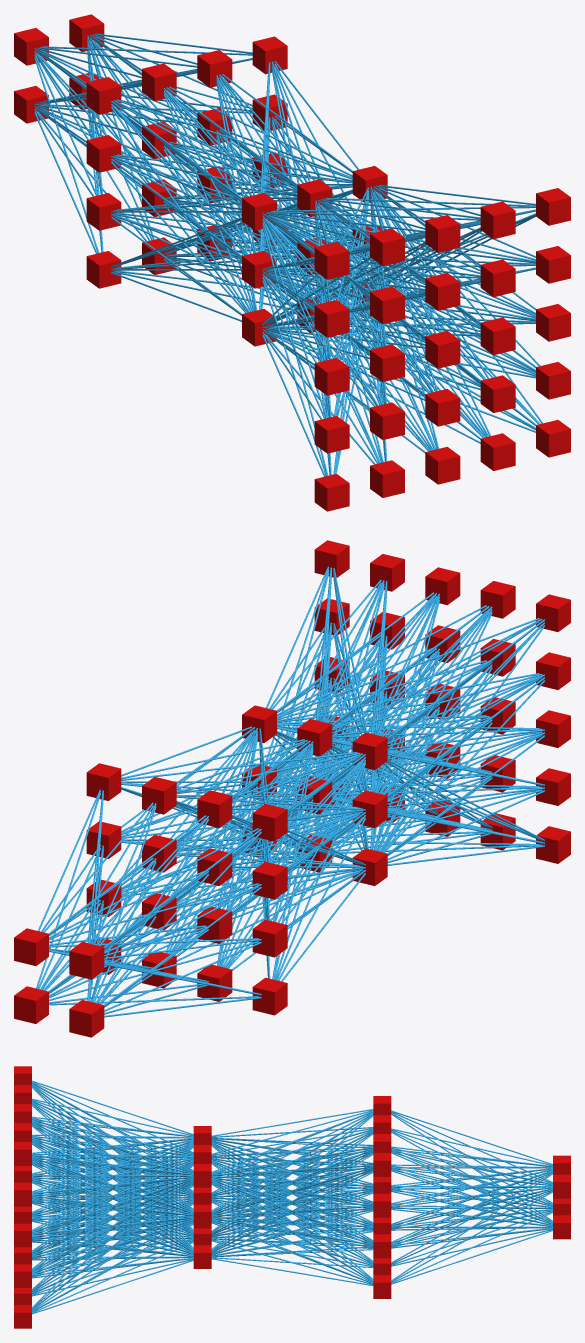
File: Neural.fbx
3 renders of one model, top to bottom at view 1: azimuth 30°, elevation 25°; view 2: azimuth 150°, elevation 25°; view 3: azimuth 270°, elevation 25°, orthographic. The views are drawn at different scales.
Parts seen in each view (by area): view 1: Sweep, Cube_1_0, Cube_1_12, Cube_1_3, Cube_1_5, Cube_1_7, Cube_1_8, Cube_1_20, Cube_1_23, Cube_1_2, Cube_1_10, Cube_1_13 (+34 smaller); view 2: Sweep, Cube_4_0, Cube_4_2, Cube_4_3, Cube_4_1, Cube_3_0, Cube_3_12, Cube_3_15, Cube_3_4, Cube_3_13, Cube_3_8, Cube_1_24 (+29 smaller); view 3: Sweep, Cube_3_7, Cube_3_11, Cube_2_5, Cube_2_2, Cube_2_8, Cube_3_3, Cube_3_15, Cube_1_14, Cube_1_19, Cube_4_1, Cube_4_3 (+15 smaller).
Part boxes in pixels (x1,y1,x2,y2): Sweep: (34,33,542,476); Cube_1_0: (314,474,349,511); Cube_1_12: (425,331,460,368); Cube_1_3: (480,433,515,470); Cube_1_5: (314,416,349,453); Cube_1_7: (425,389,460,426); Cube_1_8: (480,375,515,412); Cube_1_20: (314,242,349,279); Cube_1_23: (480,201,515,239); Cube_1_2: (425,446,460,484); Cube_1_10: (314,358,349,395); Cube_1_13: (480,317,515,355); Sweep: (36,566,544,1017); Cube_4_0: (69,1000,104,1037); Cube_4_2: (69,942,104,979); Cube_4_3: (14,928,48,965); Cube_4_1: (14,986,48,1023); Cube_3_0: (252,977,287,1015); Cube_3_12: (252,804,287,841); Cube_3_15: (86,763,121,800); Cube_3_4: (252,919,287,957); Cube_3_13: (197,790,232,827); Cube_3_8: (252,861,287,899); Cube_1_24: (314,540,349,577); Sweep: (32,1080,552,1314); Cube_3_7: (373,1234,391,1258); Cube_3_11: (373,1193,391,1217); Cube_2_5: (193,1204,211,1228); Cube_2_2: (193,1245,211,1268); Cube_2_8: (193,1164,211,1187); Cube_3_3: (373,1275,391,1298); Cube_3_15: (373,1153,391,1176); Cube_1_14: (14,1223,31,1247); Cube_1_19: (14,1182,31,1206); Cube_4_1: (553,1215,570,1239); Cube_4_3: (553,1174,570,1198).
Size of the model in its own units: 2200 by 2200 by 6200.
